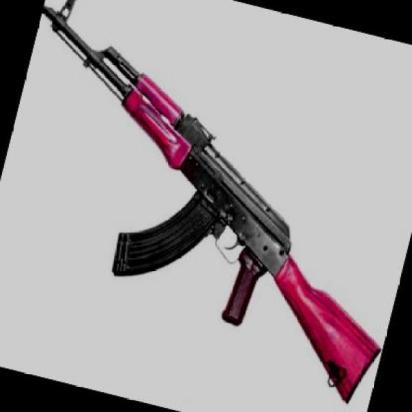Gun: (0, 0, 412, 394)
